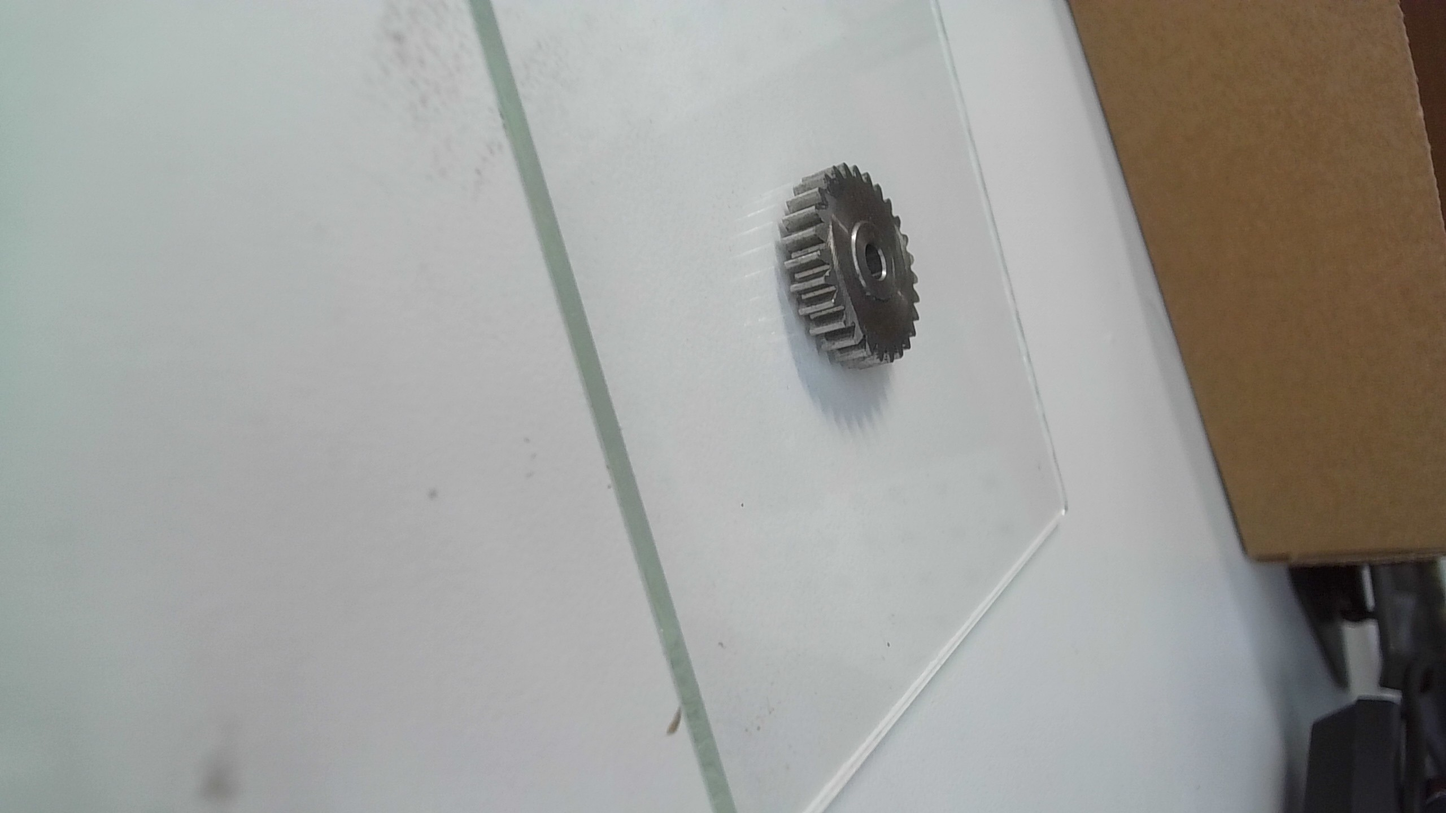gear: (773, 160, 921, 368)
